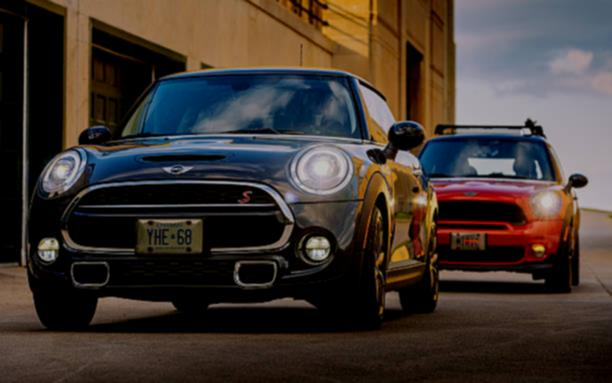mini: (154, 159, 204, 180), (459, 188, 484, 200)
